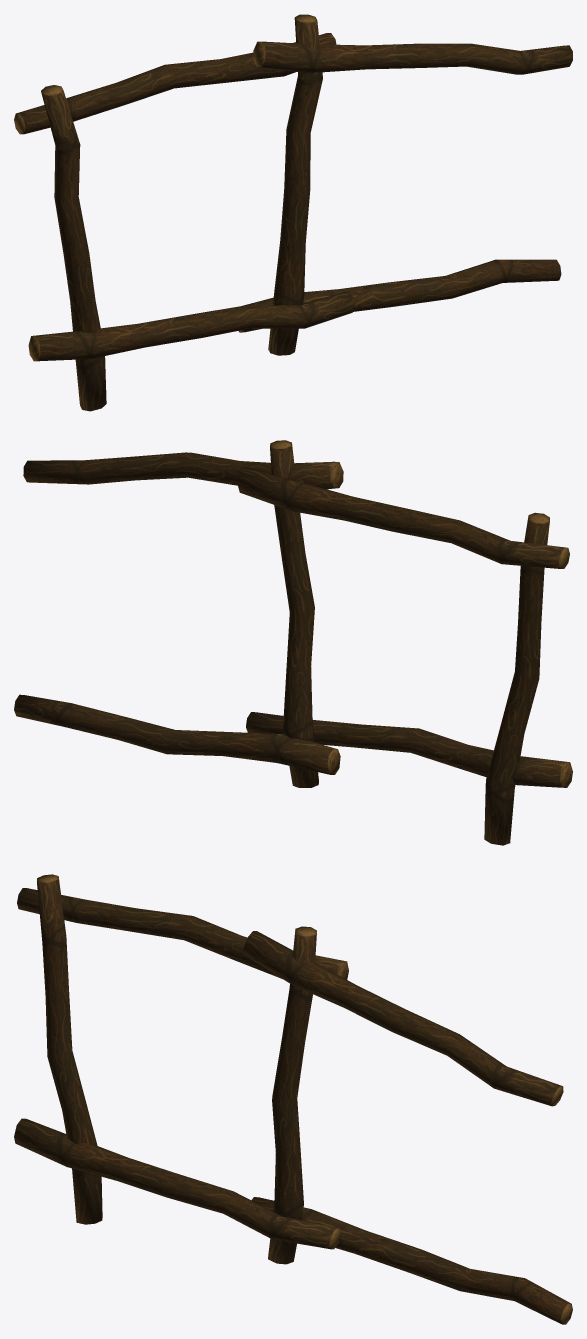
File: shared_stick_fance_02.fbx
3 renders of one model, top to bottom at view 1: azimuth 30°, elevation 25°; view 2: azimuth 150°, elevation 25°; view 3: azimuth 330°, elevation 25°, orthographic. The views are drawn at different scales.
Visible parts, largest first — view 1: shared_stick_fance_02; view 2: shared_stick_fance_02; view 3: shared_stick_fance_02.
Boxes of the visible parts, bbox=[...] form: shared_stick_fance_02: bbox=[14, 14, 572, 411]; shared_stick_fance_02: bbox=[14, 440, 572, 845]; shared_stick_fance_02: bbox=[14, 874, 572, 1324].
Bounding box in the file's own units: 2.05 × 1.23 × 0.2352.
